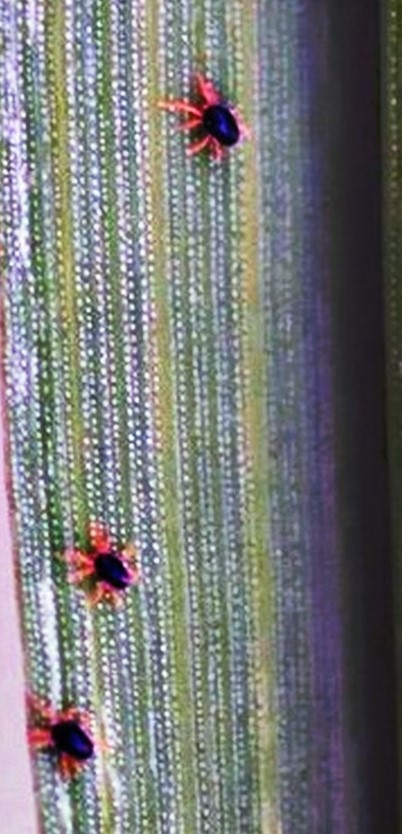Wheat Red Spider: (23, 666, 124, 794), (163, 55, 265, 180), (53, 513, 155, 614)
